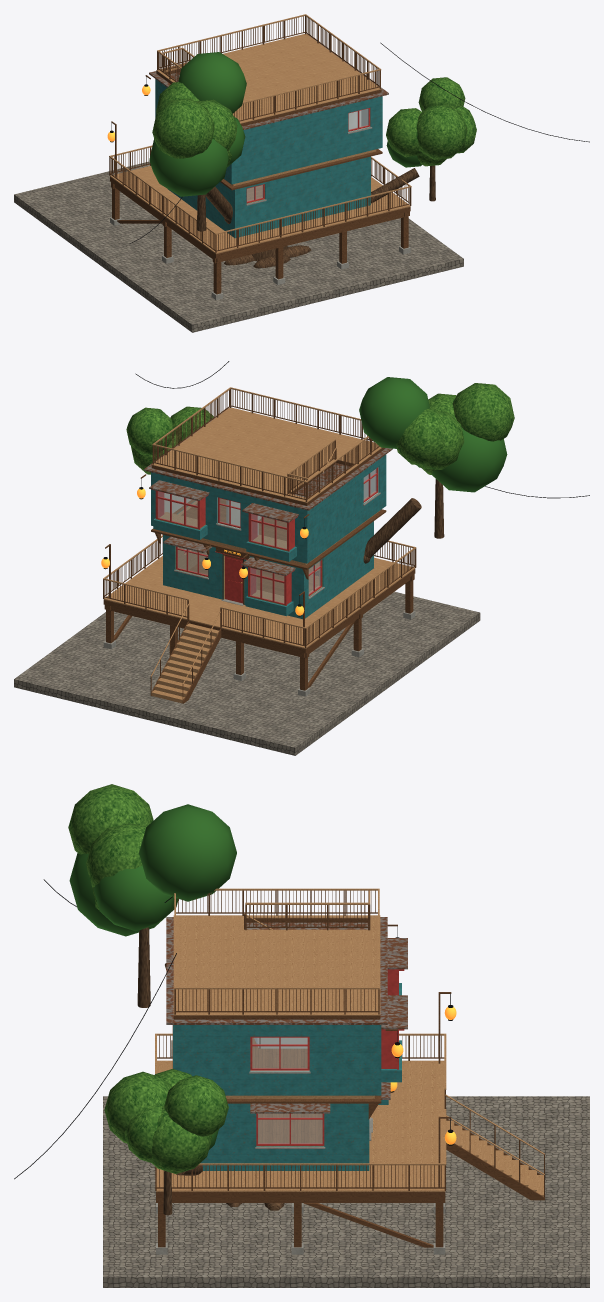
The model's file is b_house_teal_lantern.gltf.
The picture shows the model from 3 angles, top to bottom: view 1: azimuth 30°, elevation 25°; view 2: azimuth 150°, elevation 25°; view 3: azimuth 270°, elevation 25°; orthographic projection. The views are drawn at different scales.
Visible parts, largest first — view 1: S_house_teal_lantern; view 2: S_house_teal_lantern, D_house_teal_lantern_GF_S1_Door0; view 3: S_house_teal_lantern.
Part boxes in pixels (x1,y1,x2,y2): S_house_teal_lantern: [14, 14, 589, 332]; S_house_teal_lantern: [14, 361, 589, 755]; D_house_teal_lantern_GF_S1_Door0: [225, 556, 242, 603]; S_house_teal_lantern: [14, 784, 589, 1287].
Size of the model in its own units: 24.01 by 12.41 by 19.51.
18 materials, 11 textured.
